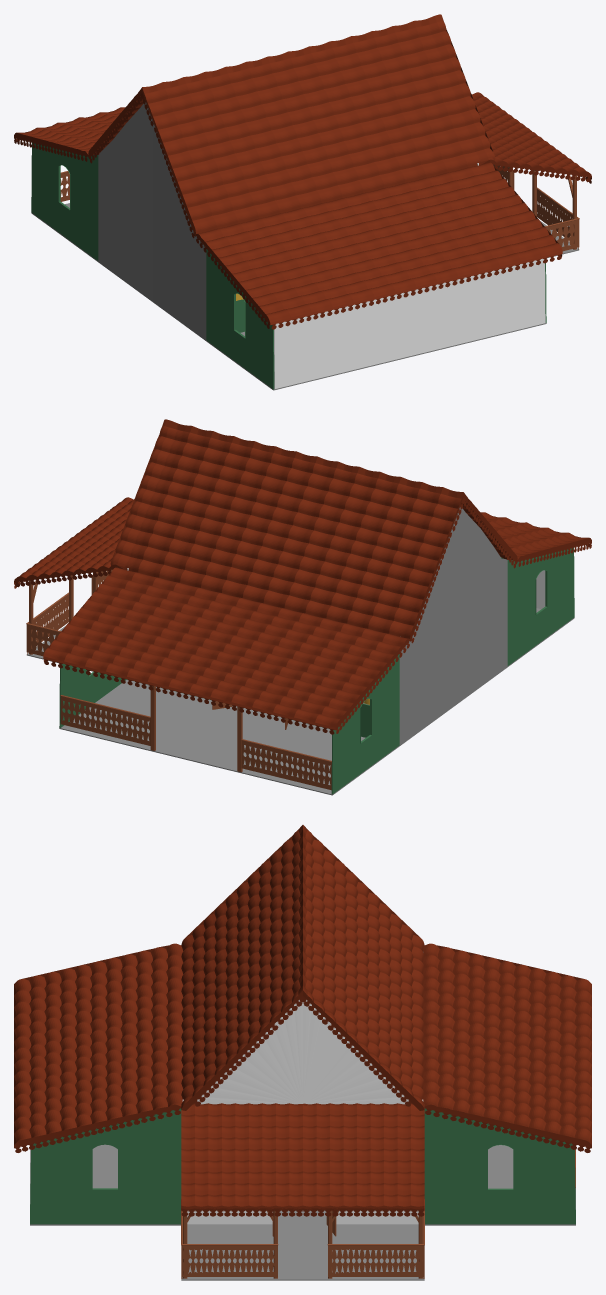
File: Rumah Kebaya.fbx
3 views of the same model, one above another, from view 1: azimuth 30°, elevation 25°; view 2: azimuth 150°, elevation 25°; view 3: azimuth 270°, elevation 25° (orthographic). The views are drawn at different scales.
Parts seen in each view (by area): view 1: Plane.002, Cube.038, Plane, Cube.024, Cube.026, Cube.001, Cube.003, Cube.005; view 2: Plane.002, Plane, Cube.026, Cube.024, Cube.023, Cube.025, Cube.020, Cube.002, Plane.004, Cube.004, Cube.005; view 3: Plane.002, Cube.020, Cube.022, Plane, Plane.005, Cube.002, Cube.001, Cube.012, Cube.013, Cube.005.
Part boxes in pixels (x1,y1,x2,y2): Plane.002: (14,14,591,329); Cube.038: (274,258,545,388); Plane: (31,102,579,390); Cube.024: (31,142,98,260); Cube.026: (206,249,274,389); Cube.001: (537,187,579,246); Cube.003: (545,218,578,251); Cube.005: (508,167,576,249); Plane.002: (14,419,591,734); Plane: (26,507,574,795); Cube.026: (507,547,574,665); Cube.024: (331,654,399,794); Cube.023: (60,695,150,745); Cube.025: (241,739,331,790); Cube.020: (59,663,126,727); Cube.002: (26,592,68,651); Plane.004: (150,686,242,772); Cube.004: (27,623,60,656); Cube.005: (29,572,97,654); Plane.002: (14,825,591,1216); Cube.020: (424,1108,575,1224); Cube.022: (30,1108,181,1224); Plane: (30,952,575,1280); Plane.005: (197,1000,408,1104); Cube.002: (327,1244,424,1276); Cube.001: (181,1244,278,1276); Cube.012: (182,1099,272,1224); Cube.013: (336,1099,423,1224); Cube.005: (183,1210,422,1278).
Bounding box in the file's own units: 4599 × 2416 × 5146.
